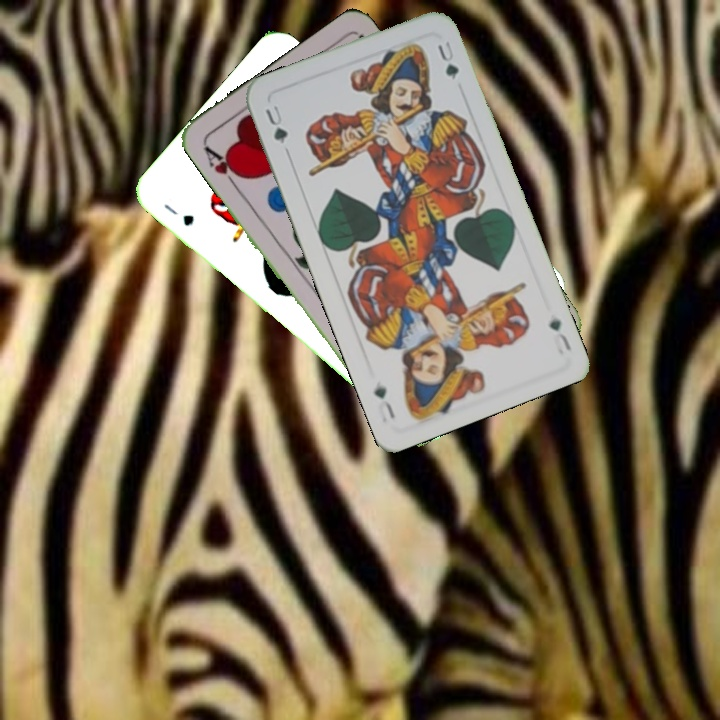GU: (261, 101, 291, 147), (545, 314, 574, 355), (159, 200, 197, 229)
HA: (200, 141, 246, 191)
